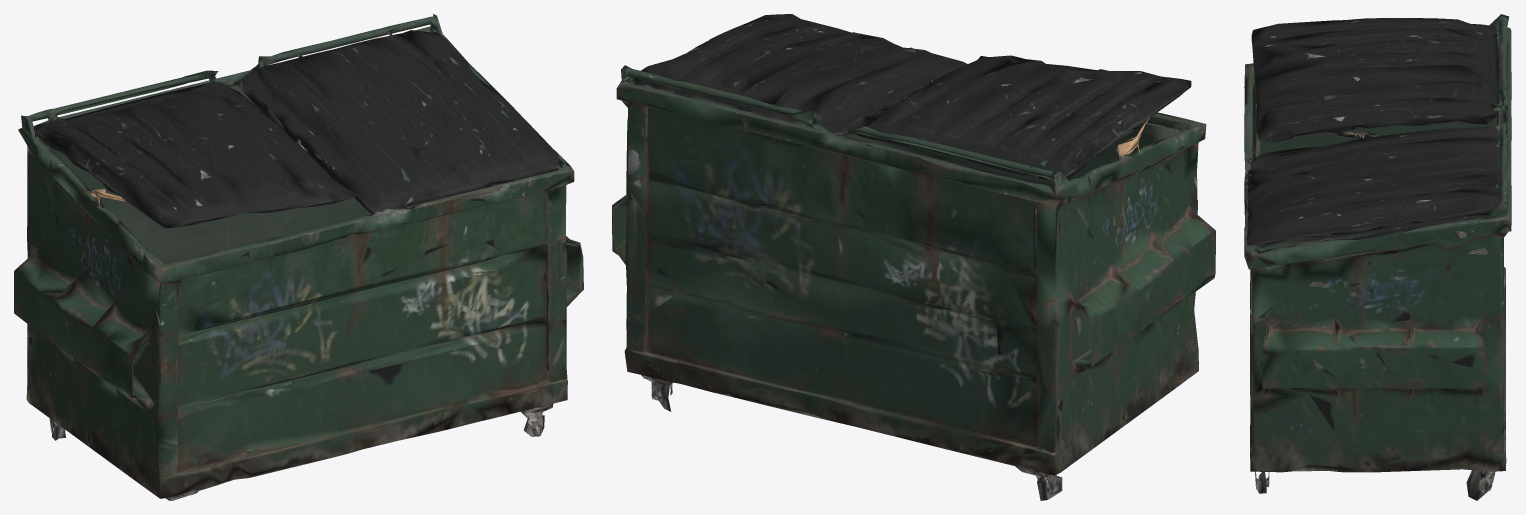
Rendered from benne.glb.
The picture shows the model from 3 angles, left to right: view 1: azimuth 30°, elevation 25°; view 2: azimuth 150°, elevation 25°; view 3: azimuth 270°, elevation 25°; orthographic projection. The views are drawn at different scales.
Bounding box in the file's own units: 1.9 × 1.32 × 1.03.
1 material, 1 textured.
